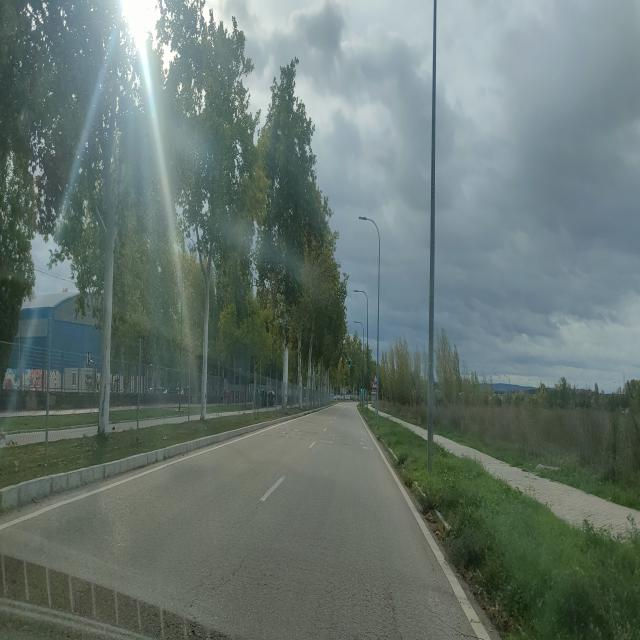Poth-hole: (141, 608, 241, 640)
